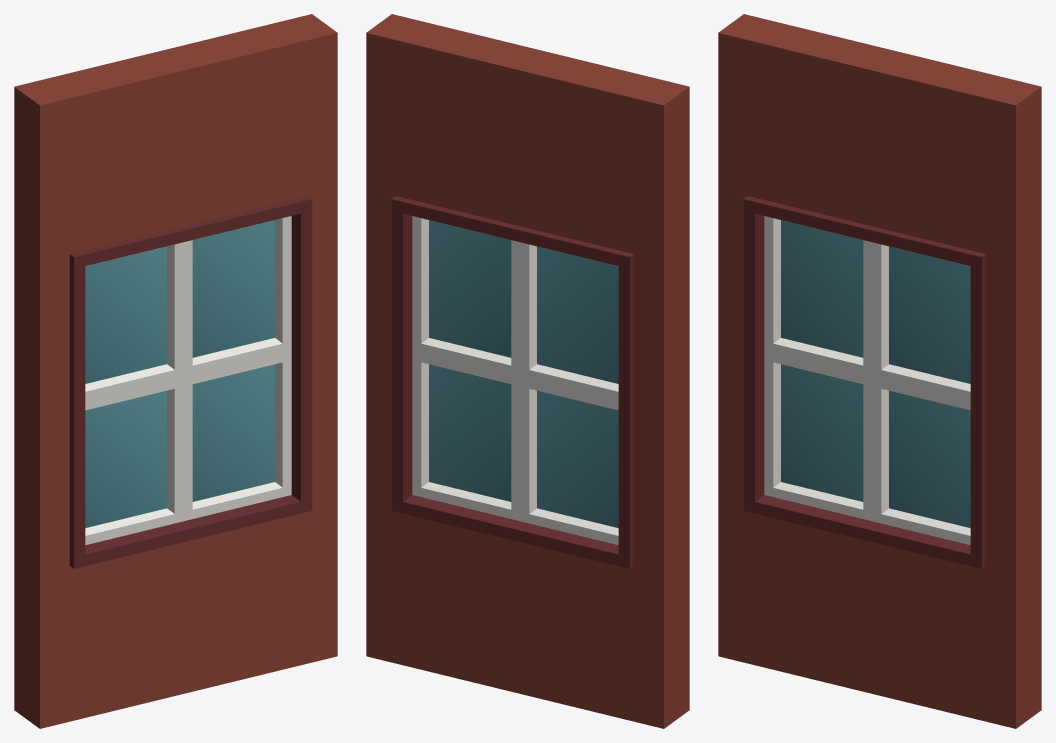
File: window2X2.fbx
3 renders of one model, left to right at view 1: azimuth 30°, elevation 25°; view 2: azimuth 150°, elevation 25°; view 3: azimuth 330°, elevation 25°, orthographic.
Parts seen in each view (by area): view 1: window2x2; view 2: window2x2; view 3: window2x2.
Boxes of the visible parts, x1,y1,x2,y2 form: window2x2: (14, 14, 337, 728); window2x2: (366, 14, 689, 728); window2x2: (718, 14, 1041, 728).
Size of the model in its own units: 200 by 400 by 40.
Materials: 1 (1 with a texture image).
